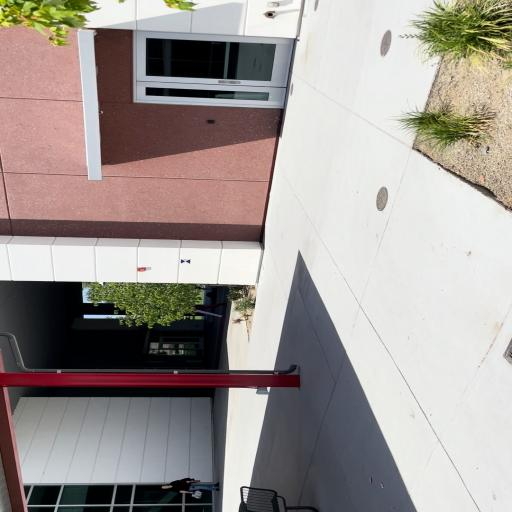target2: (180, 258, 191, 264)
